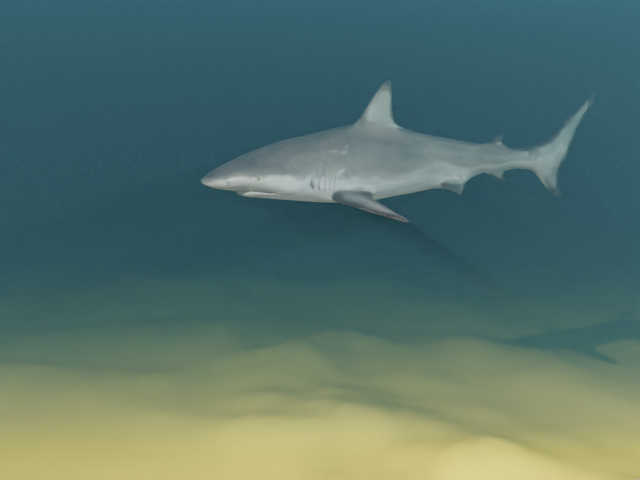Carribean Shark.001: (200, 80, 596, 222)
